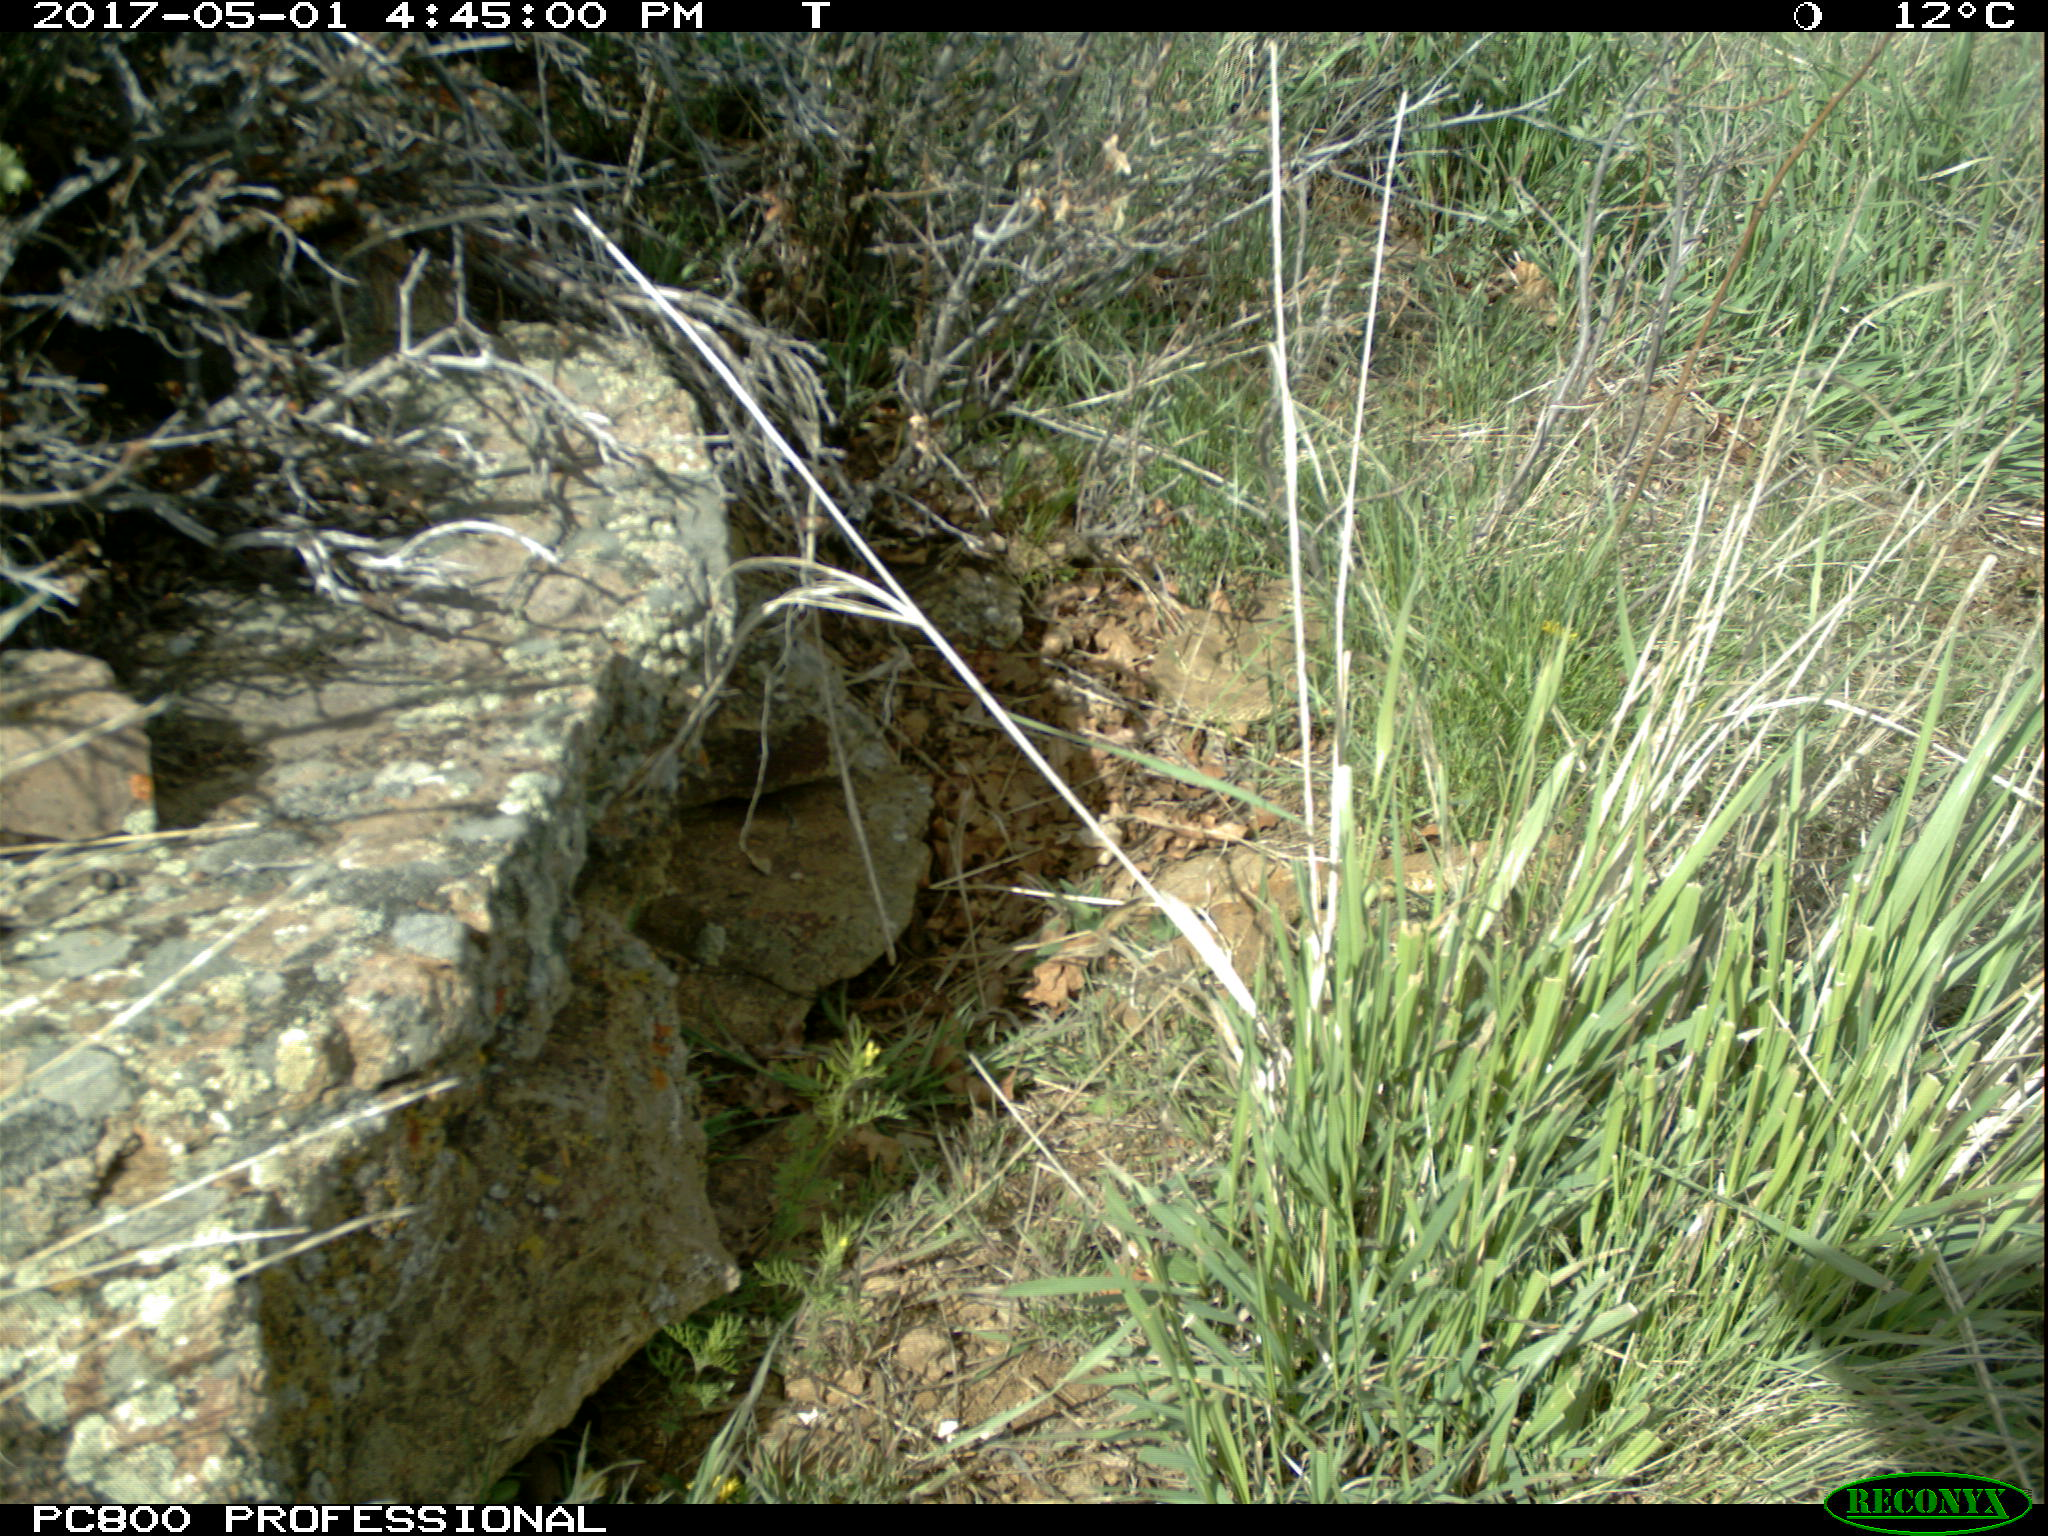snake: (1145, 605, 1337, 728)
